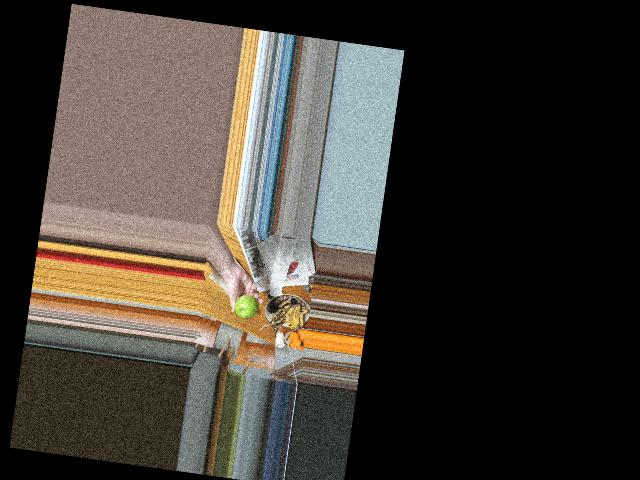apple: (232, 293, 260, 321)
